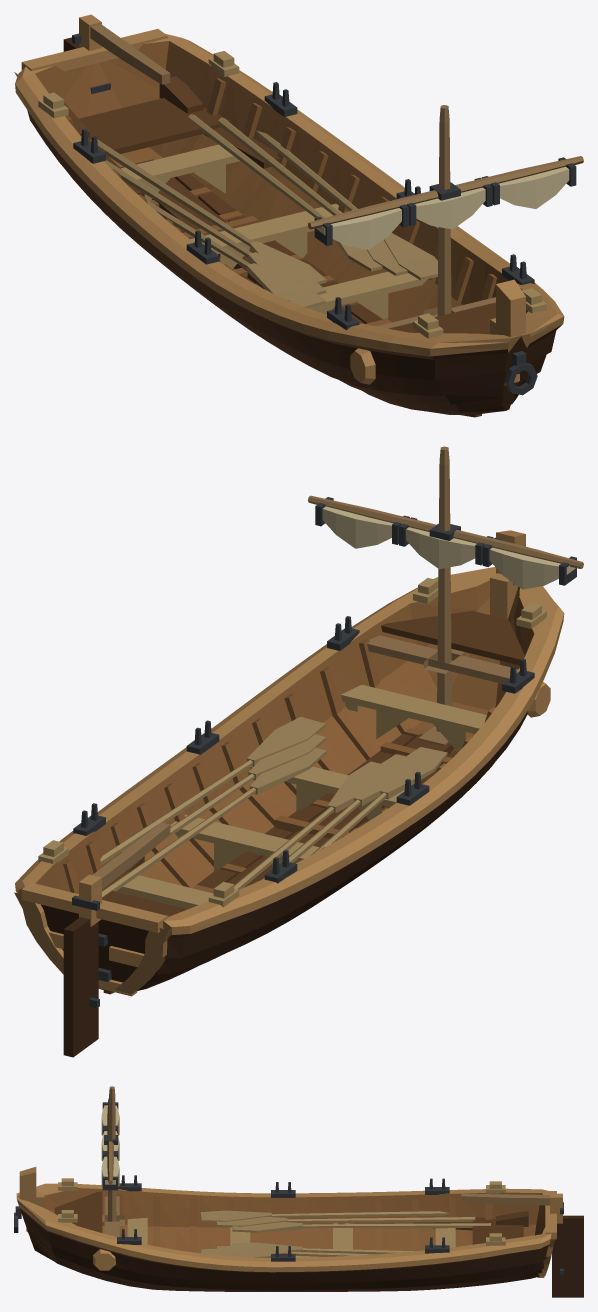
Rendered from ship-s-longboat-f159fd.glb.
3 renders of one model, top to bottom at view 1: azimuth 30°, elevation 25°; view 2: azimuth 150°, elevation 25°; view 3: azimuth 270°, elevation 25°, orthographic. The views are drawn at different scales.
Visible parts, largest first — view 1: hull, oars-mesh, mast-mesh, rudder-mesh; view 2: hull, oars-mesh, mast-mesh, rudder-mesh; view 3: hull, oars-mesh, rudder-mesh, mast-mesh.
Part boxes in pixels (x1=…): hull: x1=14, y1=29, x2=564, y2=417; oars-mesh: x1=90, y1=114, x2=437, y2=308; mast-mesh: x1=308, y1=105, x2=583, y2=316; rudder-mesh: x1=63, y1=14, x2=170, y2=84; hull: x1=14, y1=530, x2=564, y2=996; oars-mesh: x1=100, y1=716, x2=447, y2=897; mast-mesh: x1=308, y1=446, x2=583, y2=731; rudder-mesh: x1=63, y1=822, x2=170, y2=1057; hull: x1=14, y1=1167, x2=556, y2=1291; oars-mesh: x1=200, y1=1210, x2=490, y2=1257; rudder-mesh: x1=461, y1=1193, x2=583, y2=1297; mast-mesh: x1=101, y1=1086, x2=119, y2=1221.
Size of the model in its own units: 2.4 by 2.8 by 6.93.
